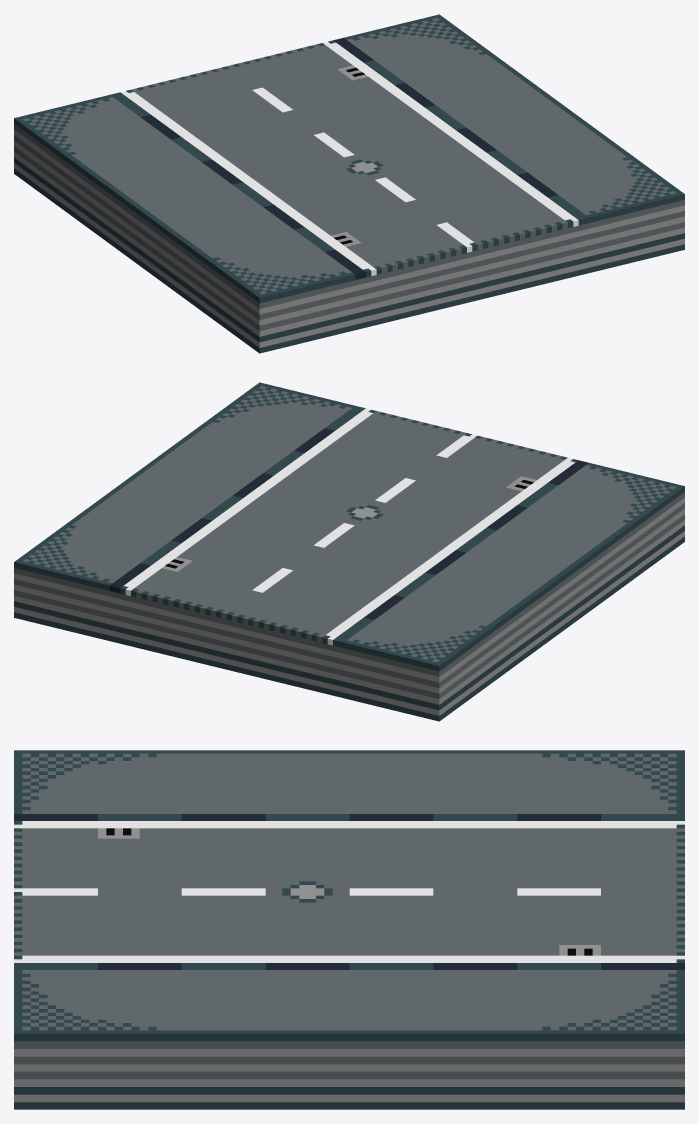
The model's file is bridge_plate.obj.
3 views of the same model, one above another, from view 1: azimuth 30°, elevation 25°; view 2: azimuth 150°, elevation 25°; view 3: azimuth 270°, elevation 25° (orthographic). The views are drawn at different scales.
Bounding box in the file's own units: 8 × 1 × 8.
Materials: 1 (1 with a texture image).
